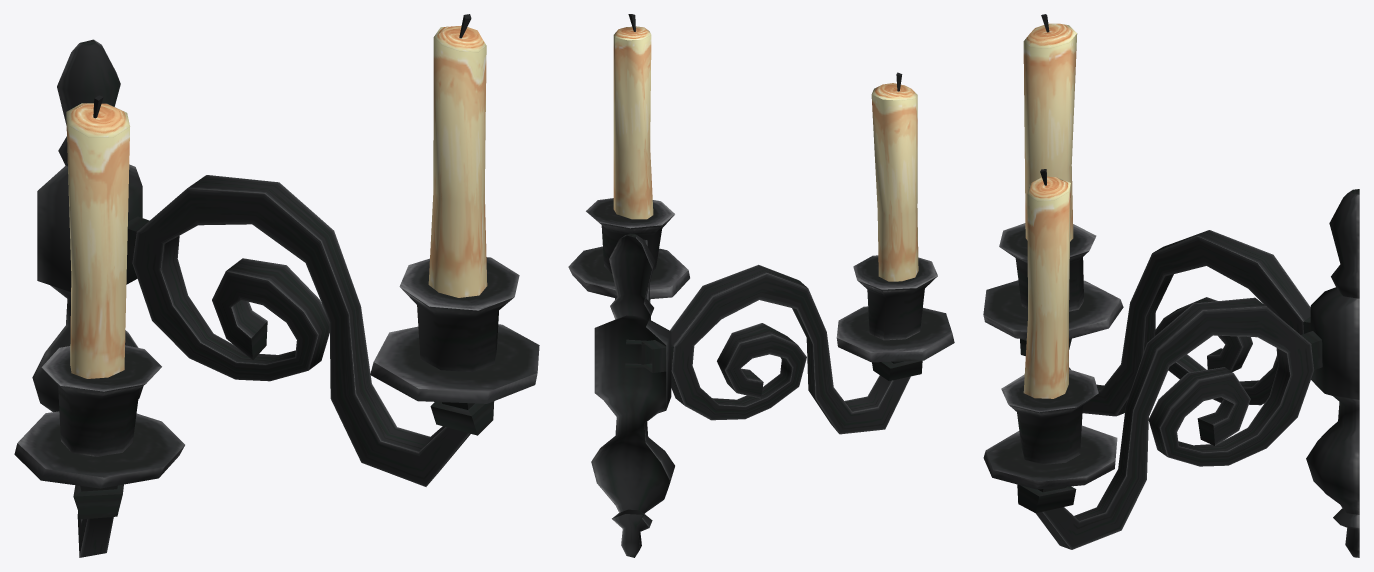
File: SM_PROP_candle_city_01.fbx
The picture shows the model from 3 angles, left to right: view 1: azimuth 30°, elevation 25°; view 2: azimuth 150°, elevation 25°; view 3: azimuth 270°, elevation 25°; orthographic projection. The views are drawn at different scales.
Parts seen in each view (by area): view 1: SM_PROP_candle_city_01; view 2: SM_PROP_candle_city_01; view 3: SM_PROP_candle_city_01.
Boxes of the visible parts, x1,y1,x2,y2 form: SM_PROP_candle_city_01: [14, 14, 539, 557]; SM_PROP_candle_city_01: [568, 14, 954, 557]; SM_PROP_candle_city_01: [983, 14, 1359, 557].
Size of the model in its own units: 37.62 by 40.5 by 29.43.
